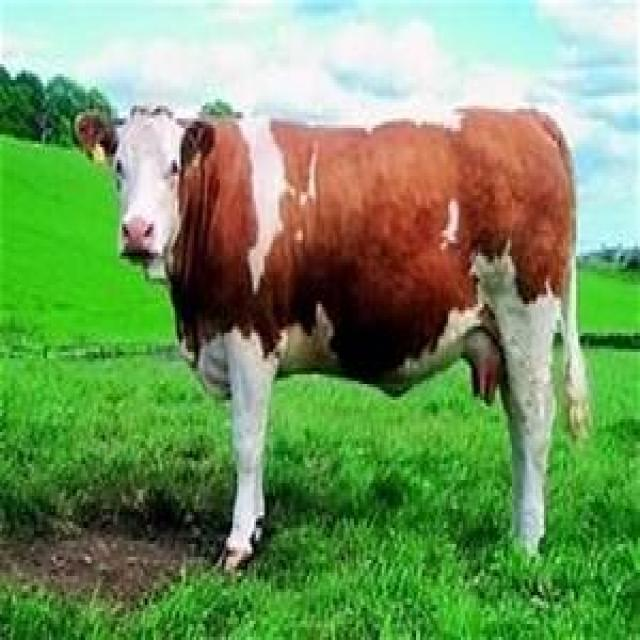cow: (83, 107, 590, 569)
